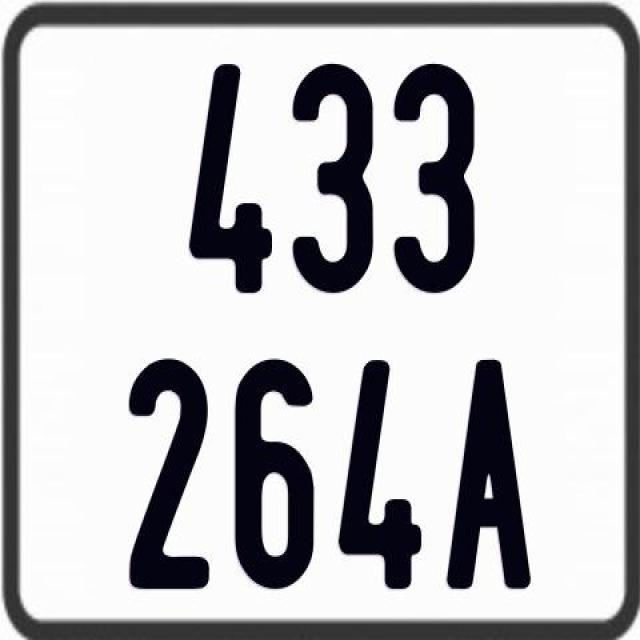2: (129, 353, 212, 588)
3: (293, 61, 379, 300), (394, 60, 474, 298)
4: (188, 63, 278, 300), (337, 360, 428, 590)
6: (231, 360, 316, 589)
A: (444, 356, 536, 588)
